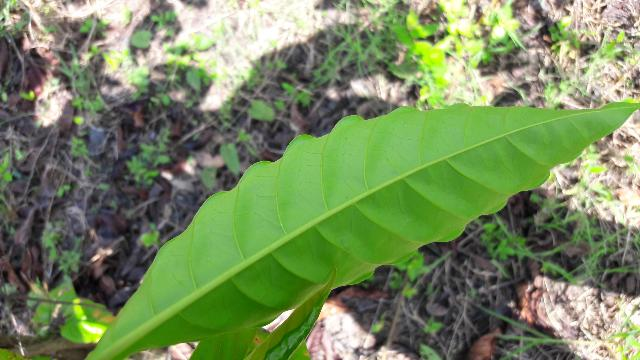healthy: (99, 100, 640, 358)
